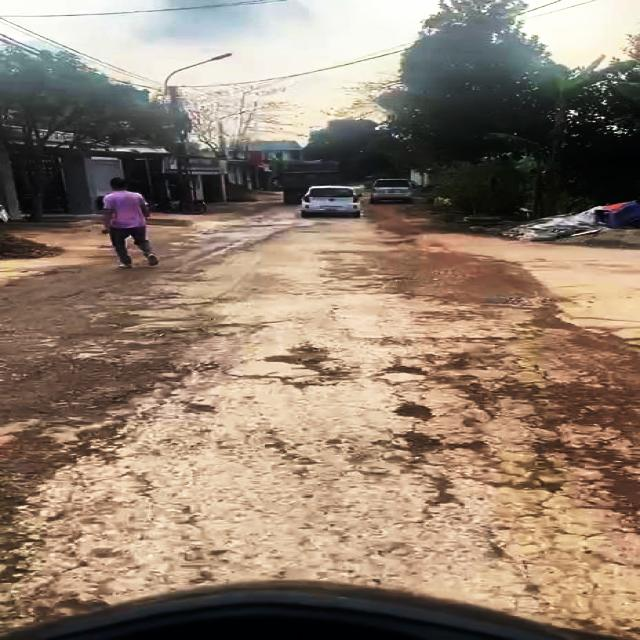pothole: (531, 435, 640, 505), (265, 344, 349, 384), (404, 429, 493, 459), (390, 402, 436, 422), (383, 363, 425, 377)
